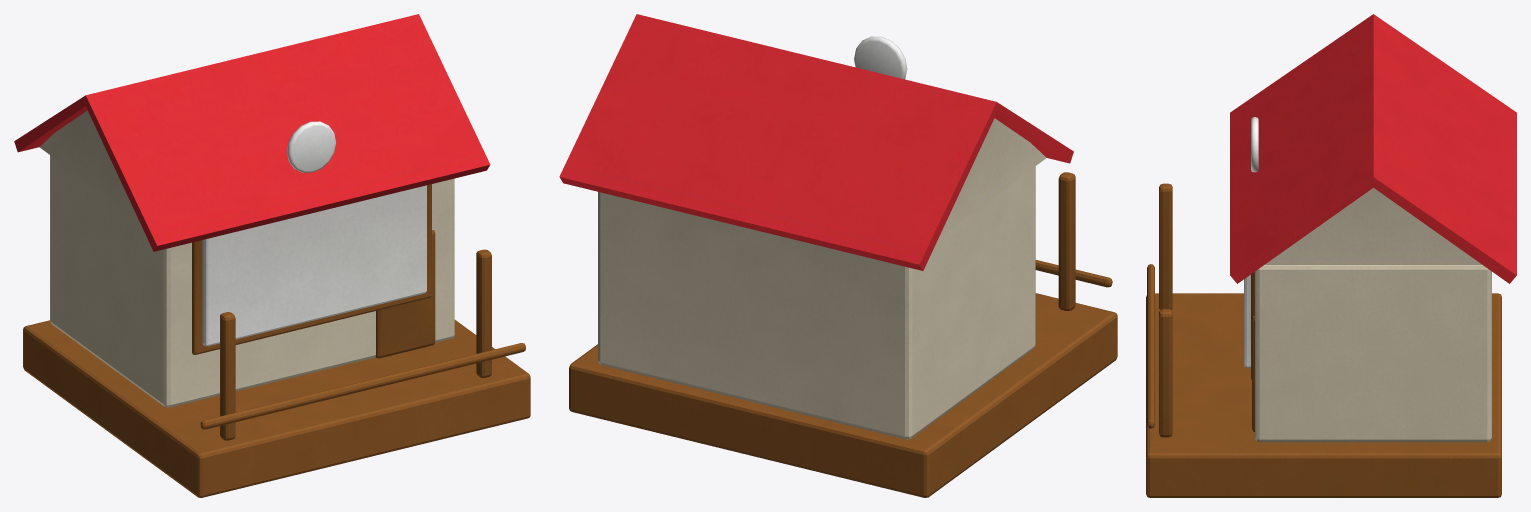
Rendered from atelier6.glb.
The picture shows the model from 3 angles, left to right: view 1: azimuth 30°, elevation 25°; view 2: azimuth 150°, elevation 25°; view 3: azimuth 270°, elevation 25°; orthographic projection. The views are drawn at different scales.
Parts seen in each view (by area): view 1: estrade__wood; view 2: estrade__wood; view 3: estrade__wood.
Boxes of the visible parts, x1,y1,x2,y2 form: estrade__wood: [14, 14, 530, 497]; estrade__wood: [559, 14, 1117, 497]; estrade__wood: [1146, 14, 1516, 497].
Size of the model in its own units: 3.9 by 3.6 by 3.75.
Materials: 1 (1 with a texture image).
